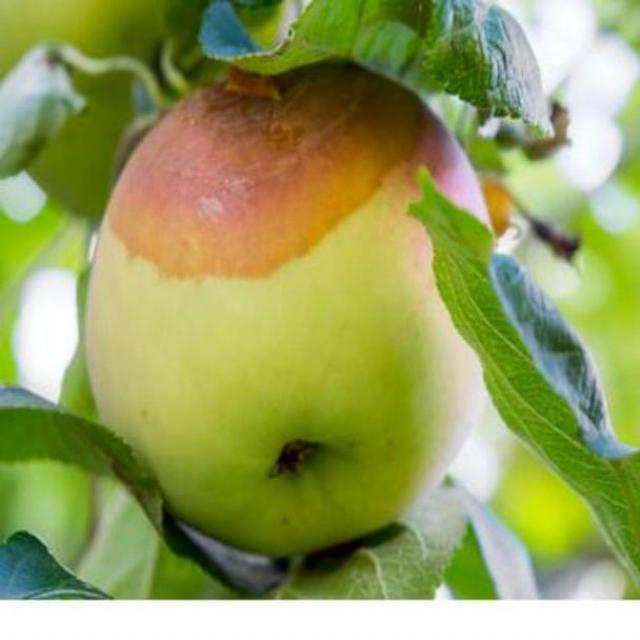ROT: (48, 46, 544, 576)
